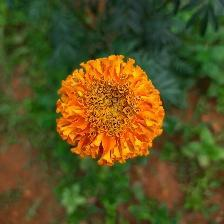marigold: (54, 54, 171, 167)
